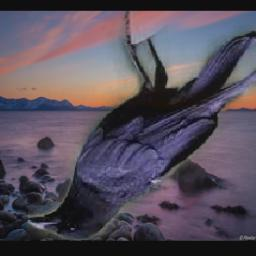Crow: (29, 12, 256, 241)
